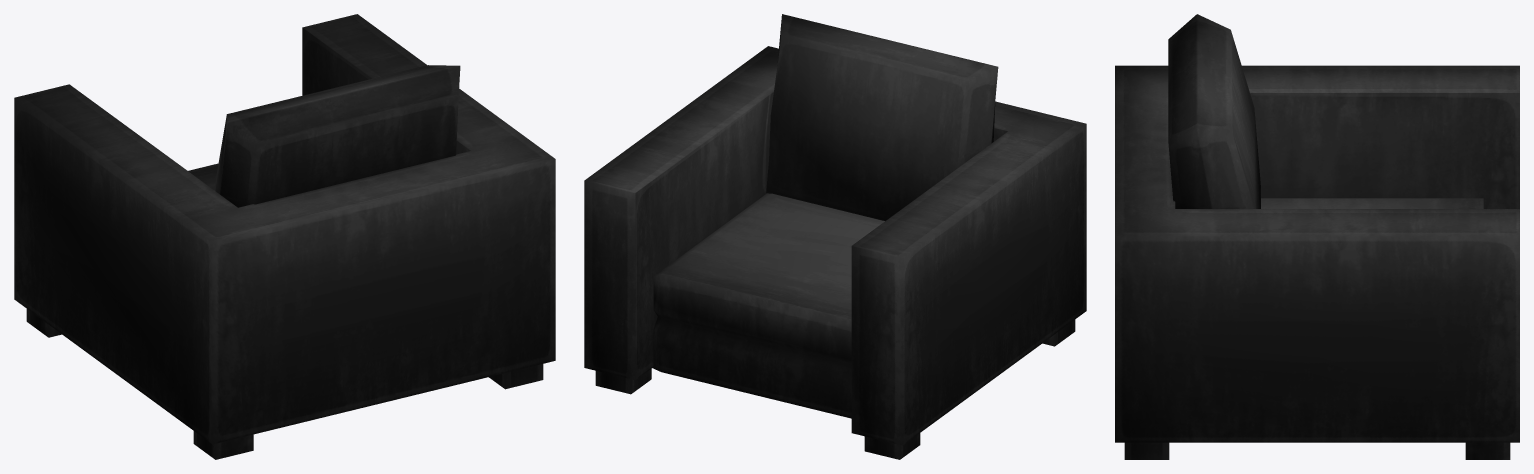
File: FUR0210036.fbx
3 views of the same model, side by side, from view 1: azimuth 30°, elevation 25°; view 2: azimuth 150°, elevation 25°; view 3: azimuth 270°, elevation 25° (orthographic). The views are drawn at different scales.
Parts seen in each view (by area): view 1: smFUR0210036; view 2: smFUR0210036; view 3: smFUR0210036.
Part boxes in pixels (box(x1,y1,x2,y2)): smFUR0210036: box(14, 14, 555, 459); smFUR0210036: box(584, 14, 1086, 459); smFUR0210036: box(1115, 14, 1519, 459).
Bounding box in the file's own units: 109 × 90.86 × 109.
Materials: 1 (1 with a texture image).
